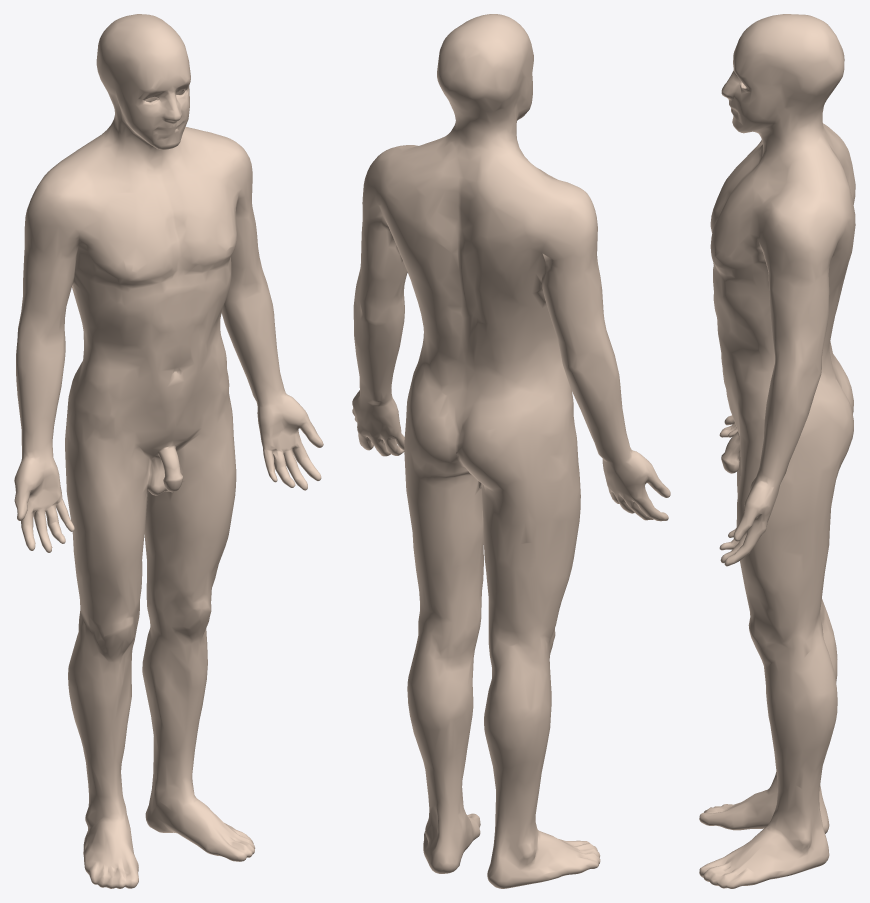
Rendered from skin.glb.
3 views of the same model, side by side, from view 1: azimuth 30°, elevation 25°; view 2: azimuth 150°, elevation 25°; view 3: azimuth 270°, elevation 25° (orthographic). The views are drawn at different scales.
Parts seen in each view (by area): view 1: skin; view 2: skin; view 3: skin.
Part boxes in pixels (box(x1,y1,x2,y2)): skin: box(14, 14, 323, 888); skin: box(352, 14, 670, 888); skin: box(699, 14, 855, 888).
Size of the model in its own units: 0.3881 by 0.9999 by 0.1699.
